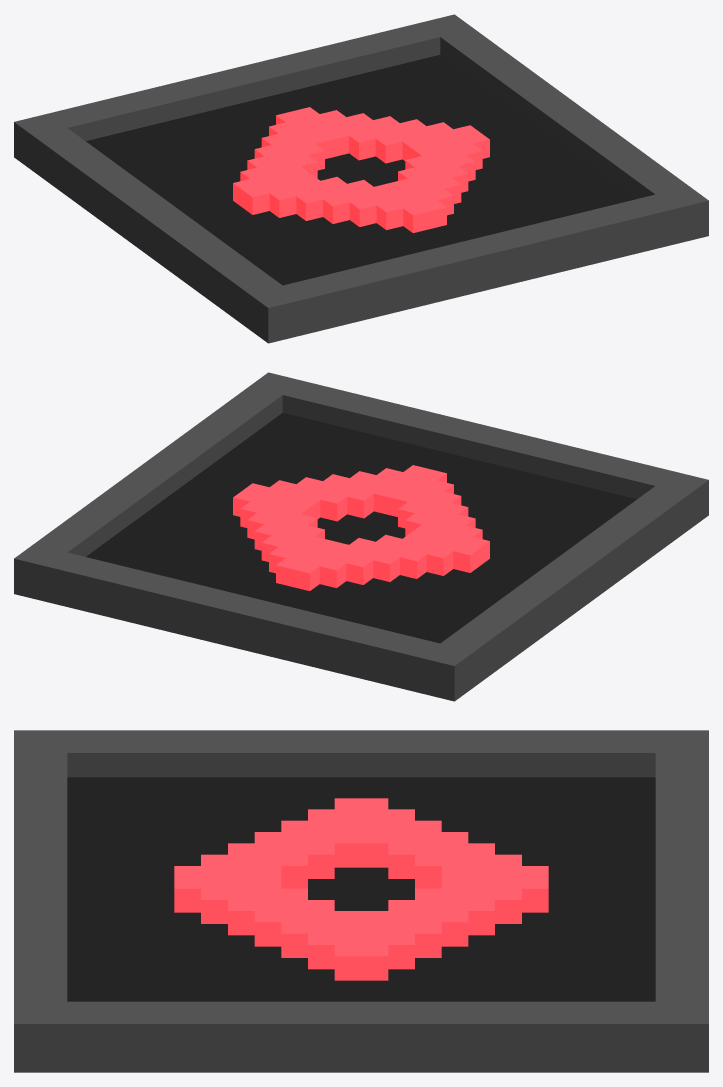
The model's file is trap_DIAMOND_RED.glb.
3 renders of one model, top to bottom at view 1: azimuth 30°, elevation 25°; view 2: azimuth 150°, elevation 25°; view 3: azimuth 270°, elevation 25°, orthographic. The views are drawn at different scales.
Parts seen in each view (by area): view 1: item_TRAP_DIAMOND_RED; view 2: item_TRAP_DIAMOND_RED; view 3: item_TRAP_DIAMOND_RED.
Part boxes in pixels (x1,y1,x2,y2): item_TRAP_DIAMOND_RED: (14, 14, 708, 343); item_TRAP_DIAMOND_RED: (14, 372, 708, 701); item_TRAP_DIAMOND_RED: (14, 730, 708, 1072).
Size of the model in its own units: 0.5909 by 0.0455 by 0.5909.
1 material, 1 textured.
